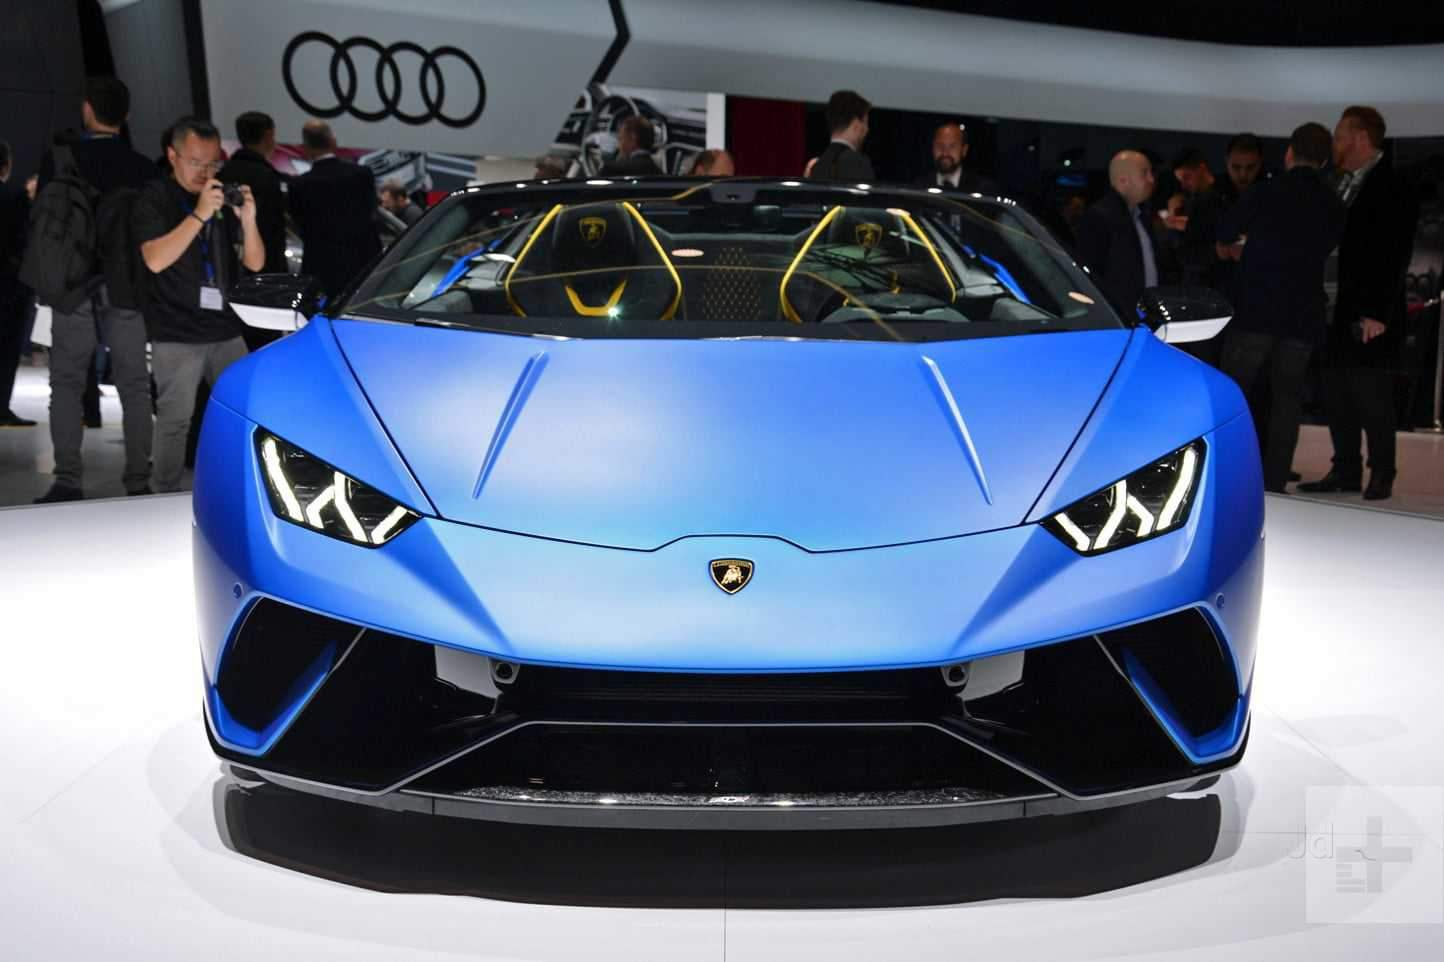car: (192, 166, 1267, 844)
